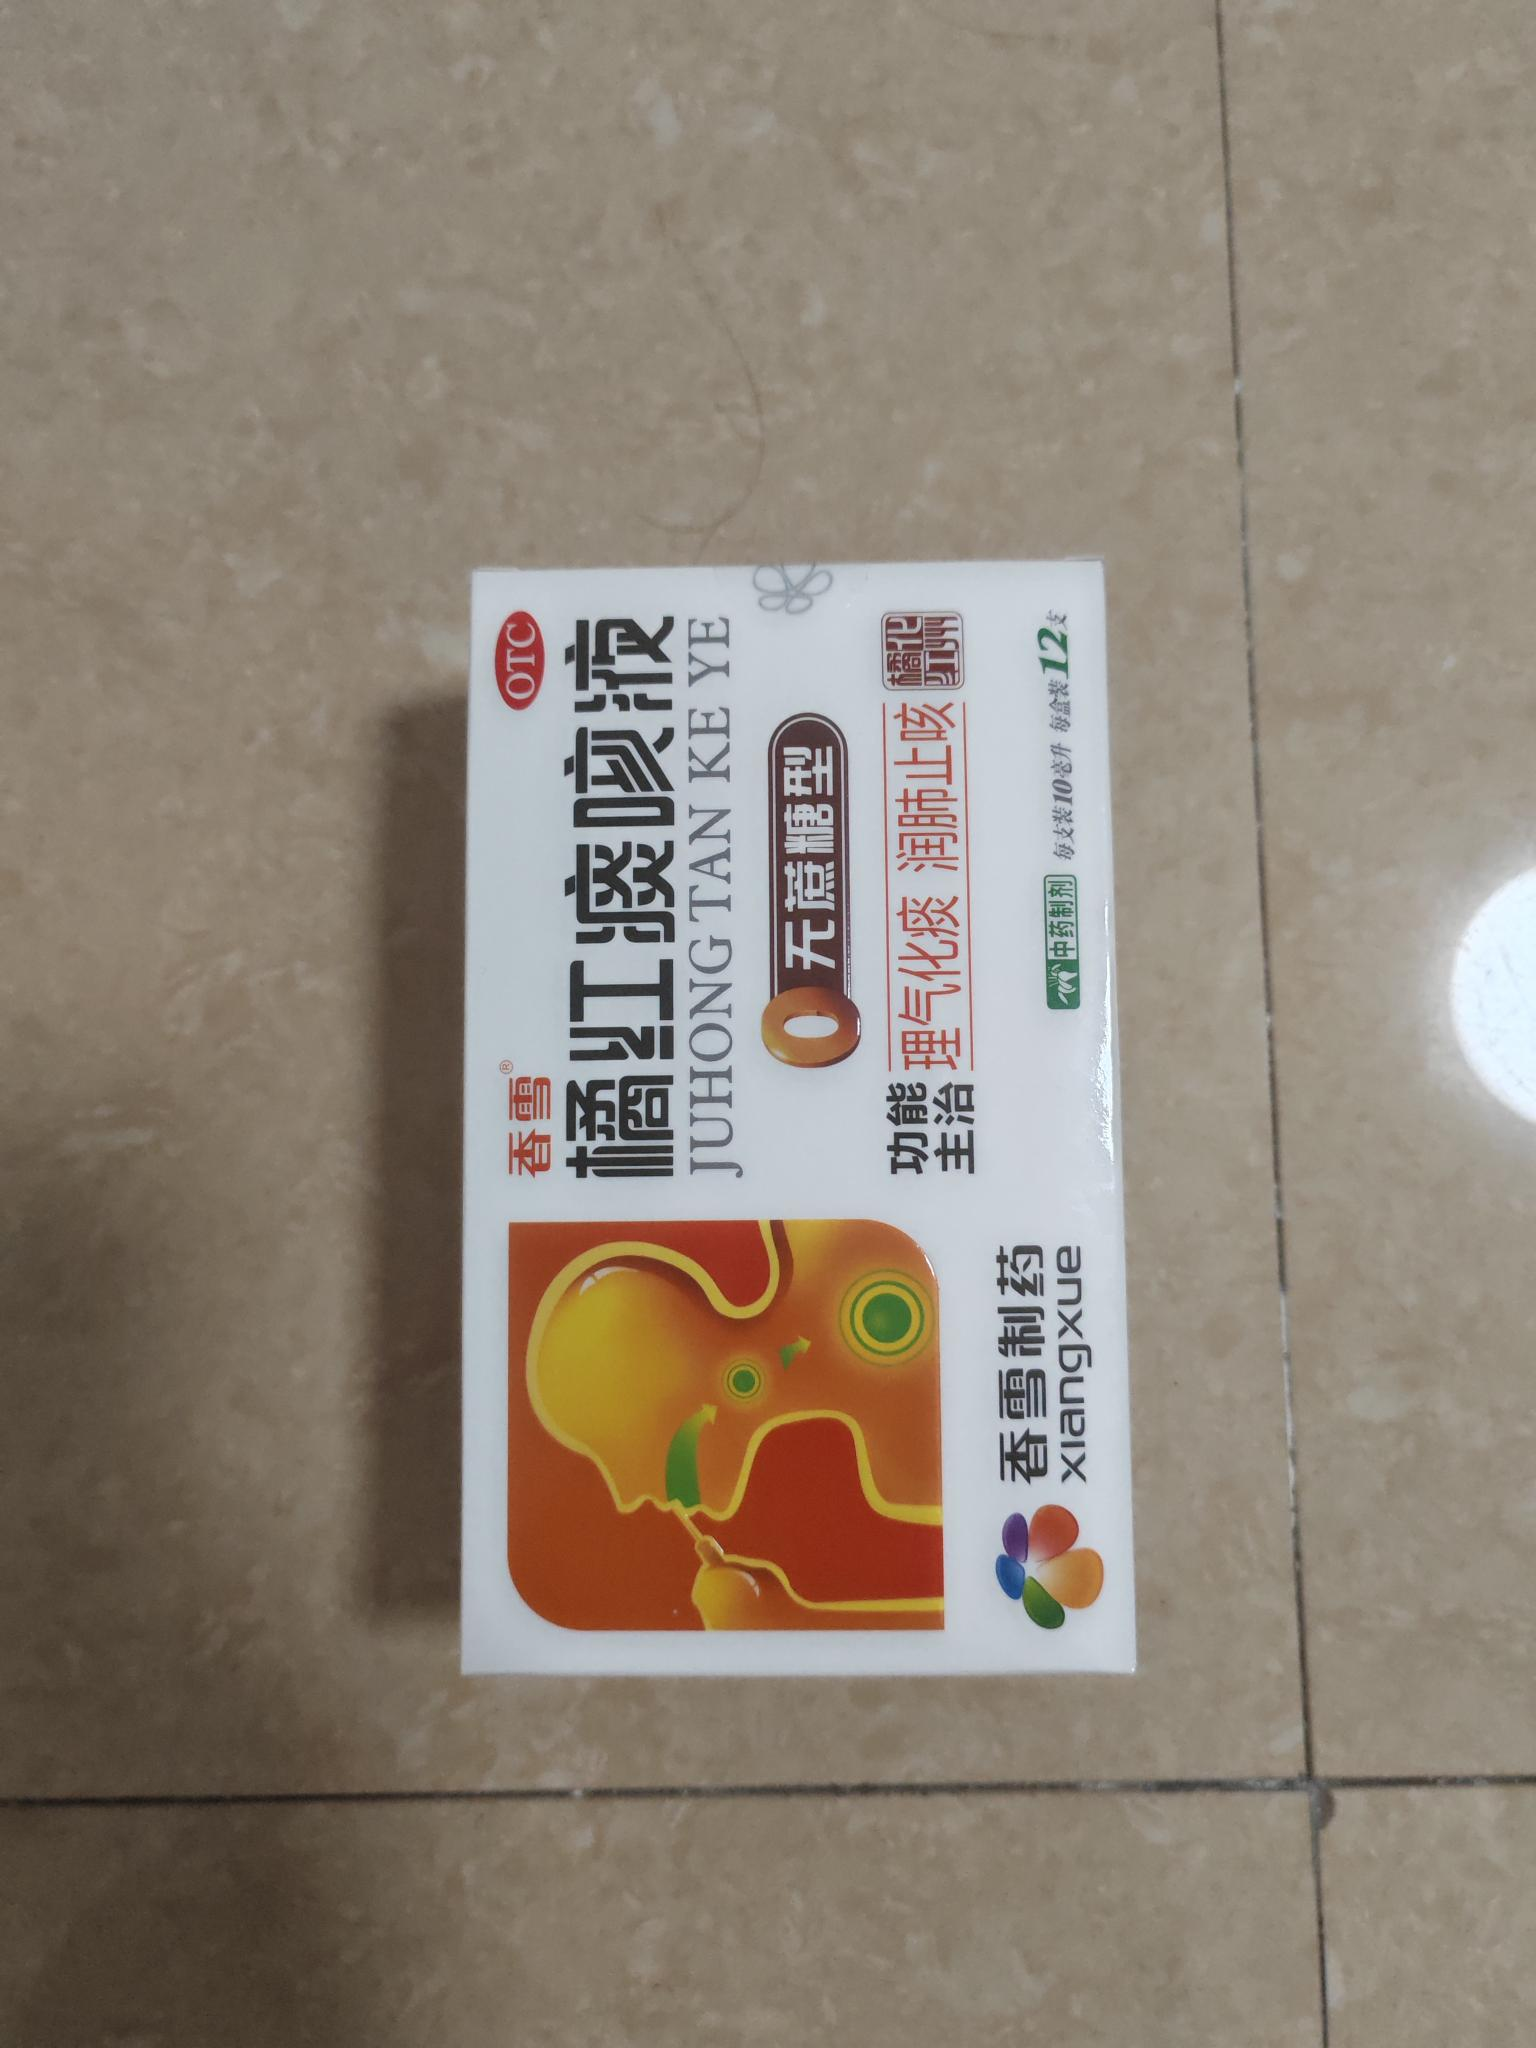Medicine1: (424, 519, 1160, 1713)
